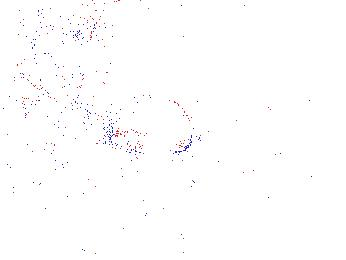moon jellyfish: (28, 11, 122, 103), (111, 92, 194, 157)
